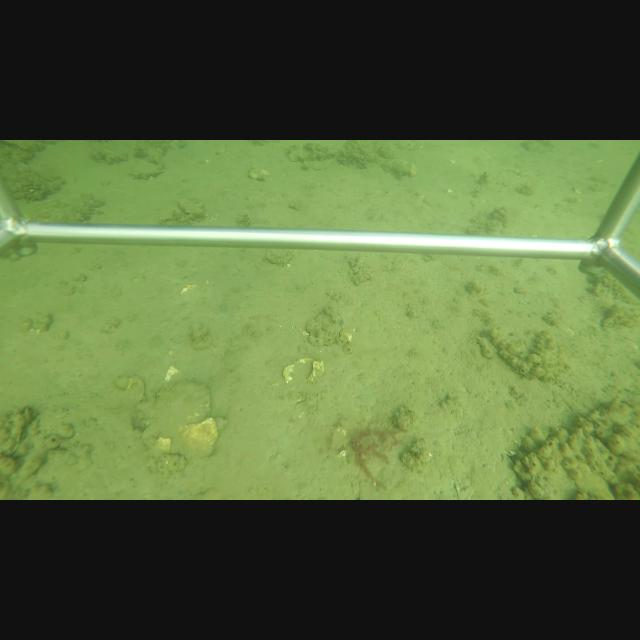Oyster-Closed: (136, 379, 219, 457), (176, 195, 205, 218)
